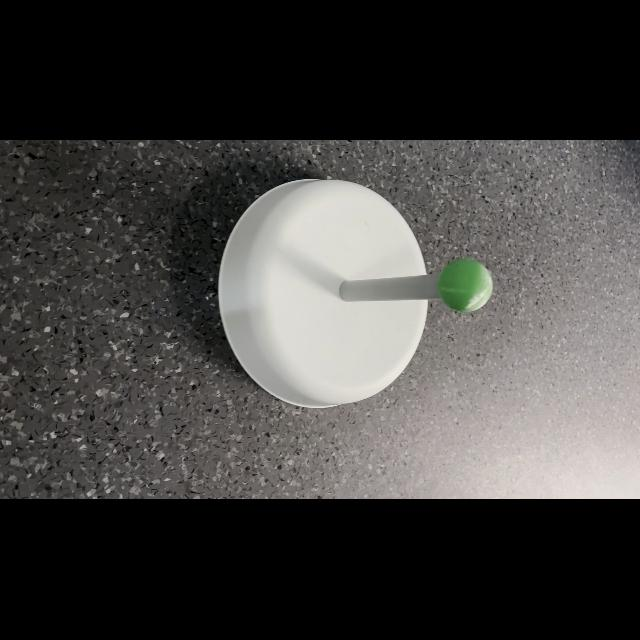objects: (431, 254, 499, 316)
